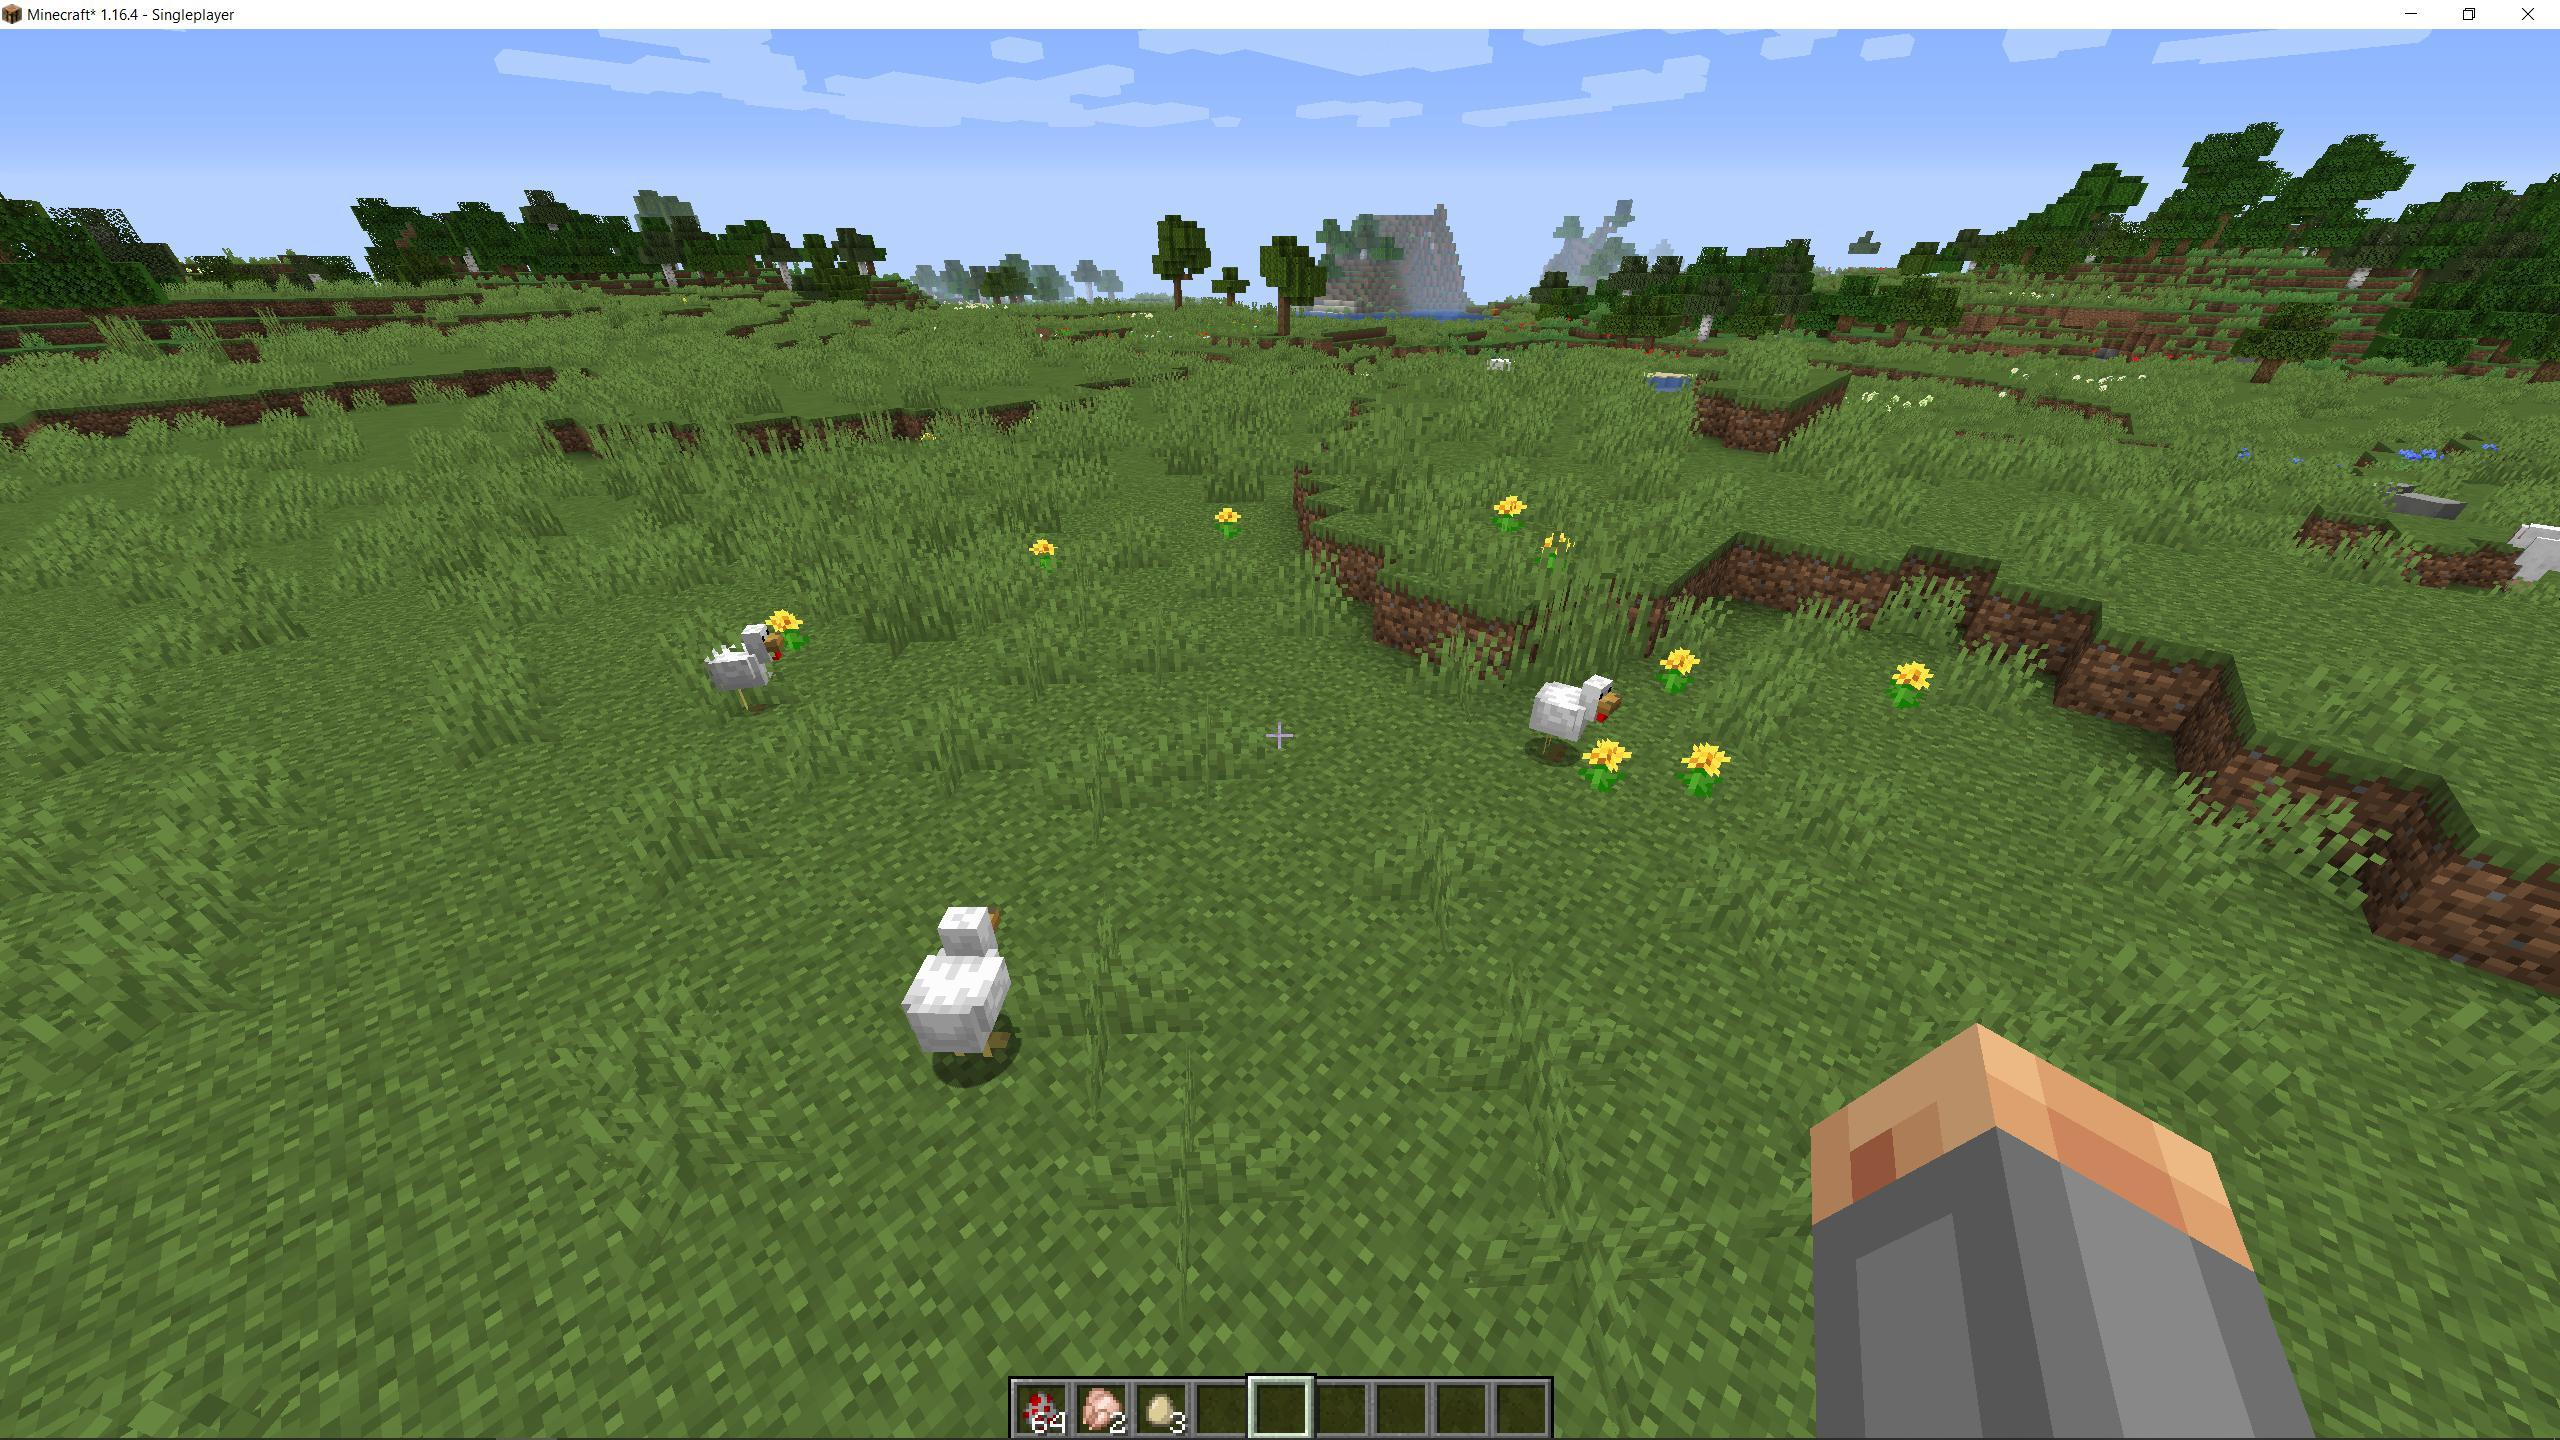chicken: (893, 891, 1039, 1081), (1526, 666, 1628, 781), (703, 614, 789, 721)
